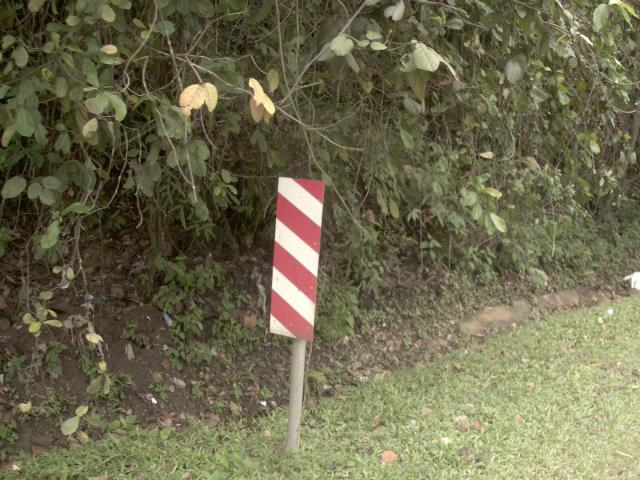traffic_sign: (255, 163, 336, 350)
